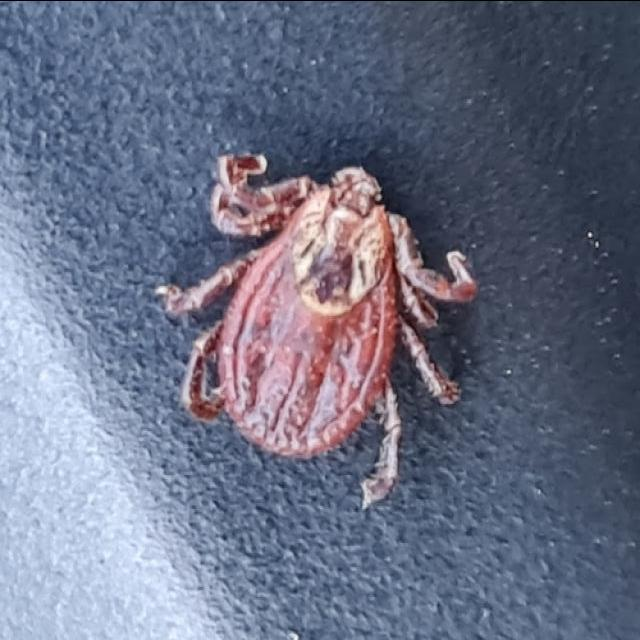Dermacentor Reticulatus-F: (156, 152, 478, 507)
